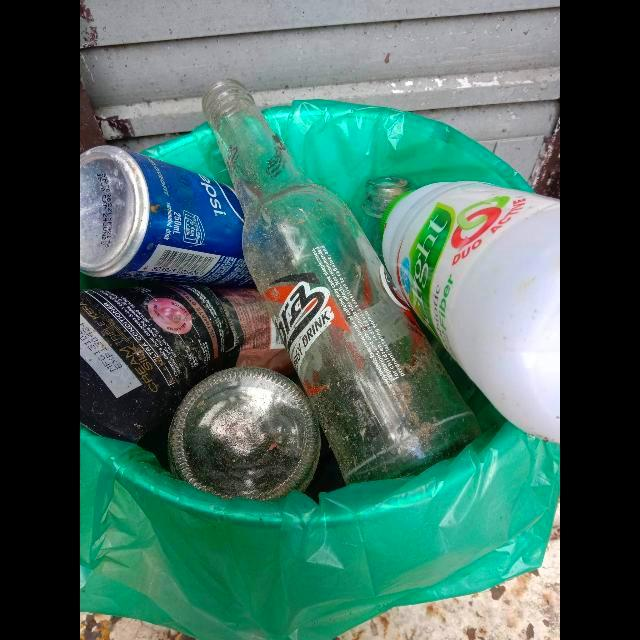aluminum: (80, 144, 256, 292)
glass_bottle: (202, 79, 484, 484), (167, 366, 322, 505), (362, 176, 409, 260)
plastic_bottle: (377, 180, 560, 444), (80, 273, 290, 445)
